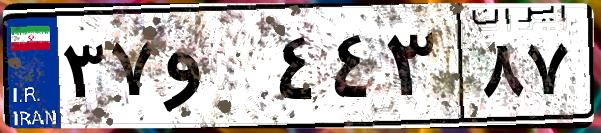3: (385, 28, 445, 110), (57, 26, 110, 100)
4: (270, 28, 330, 110), (330, 28, 385, 110)
7: (525, 38, 570, 115), (110, 28, 158, 98)
8: (475, 38, 525, 113)
و: (158, 20, 270, 120)
